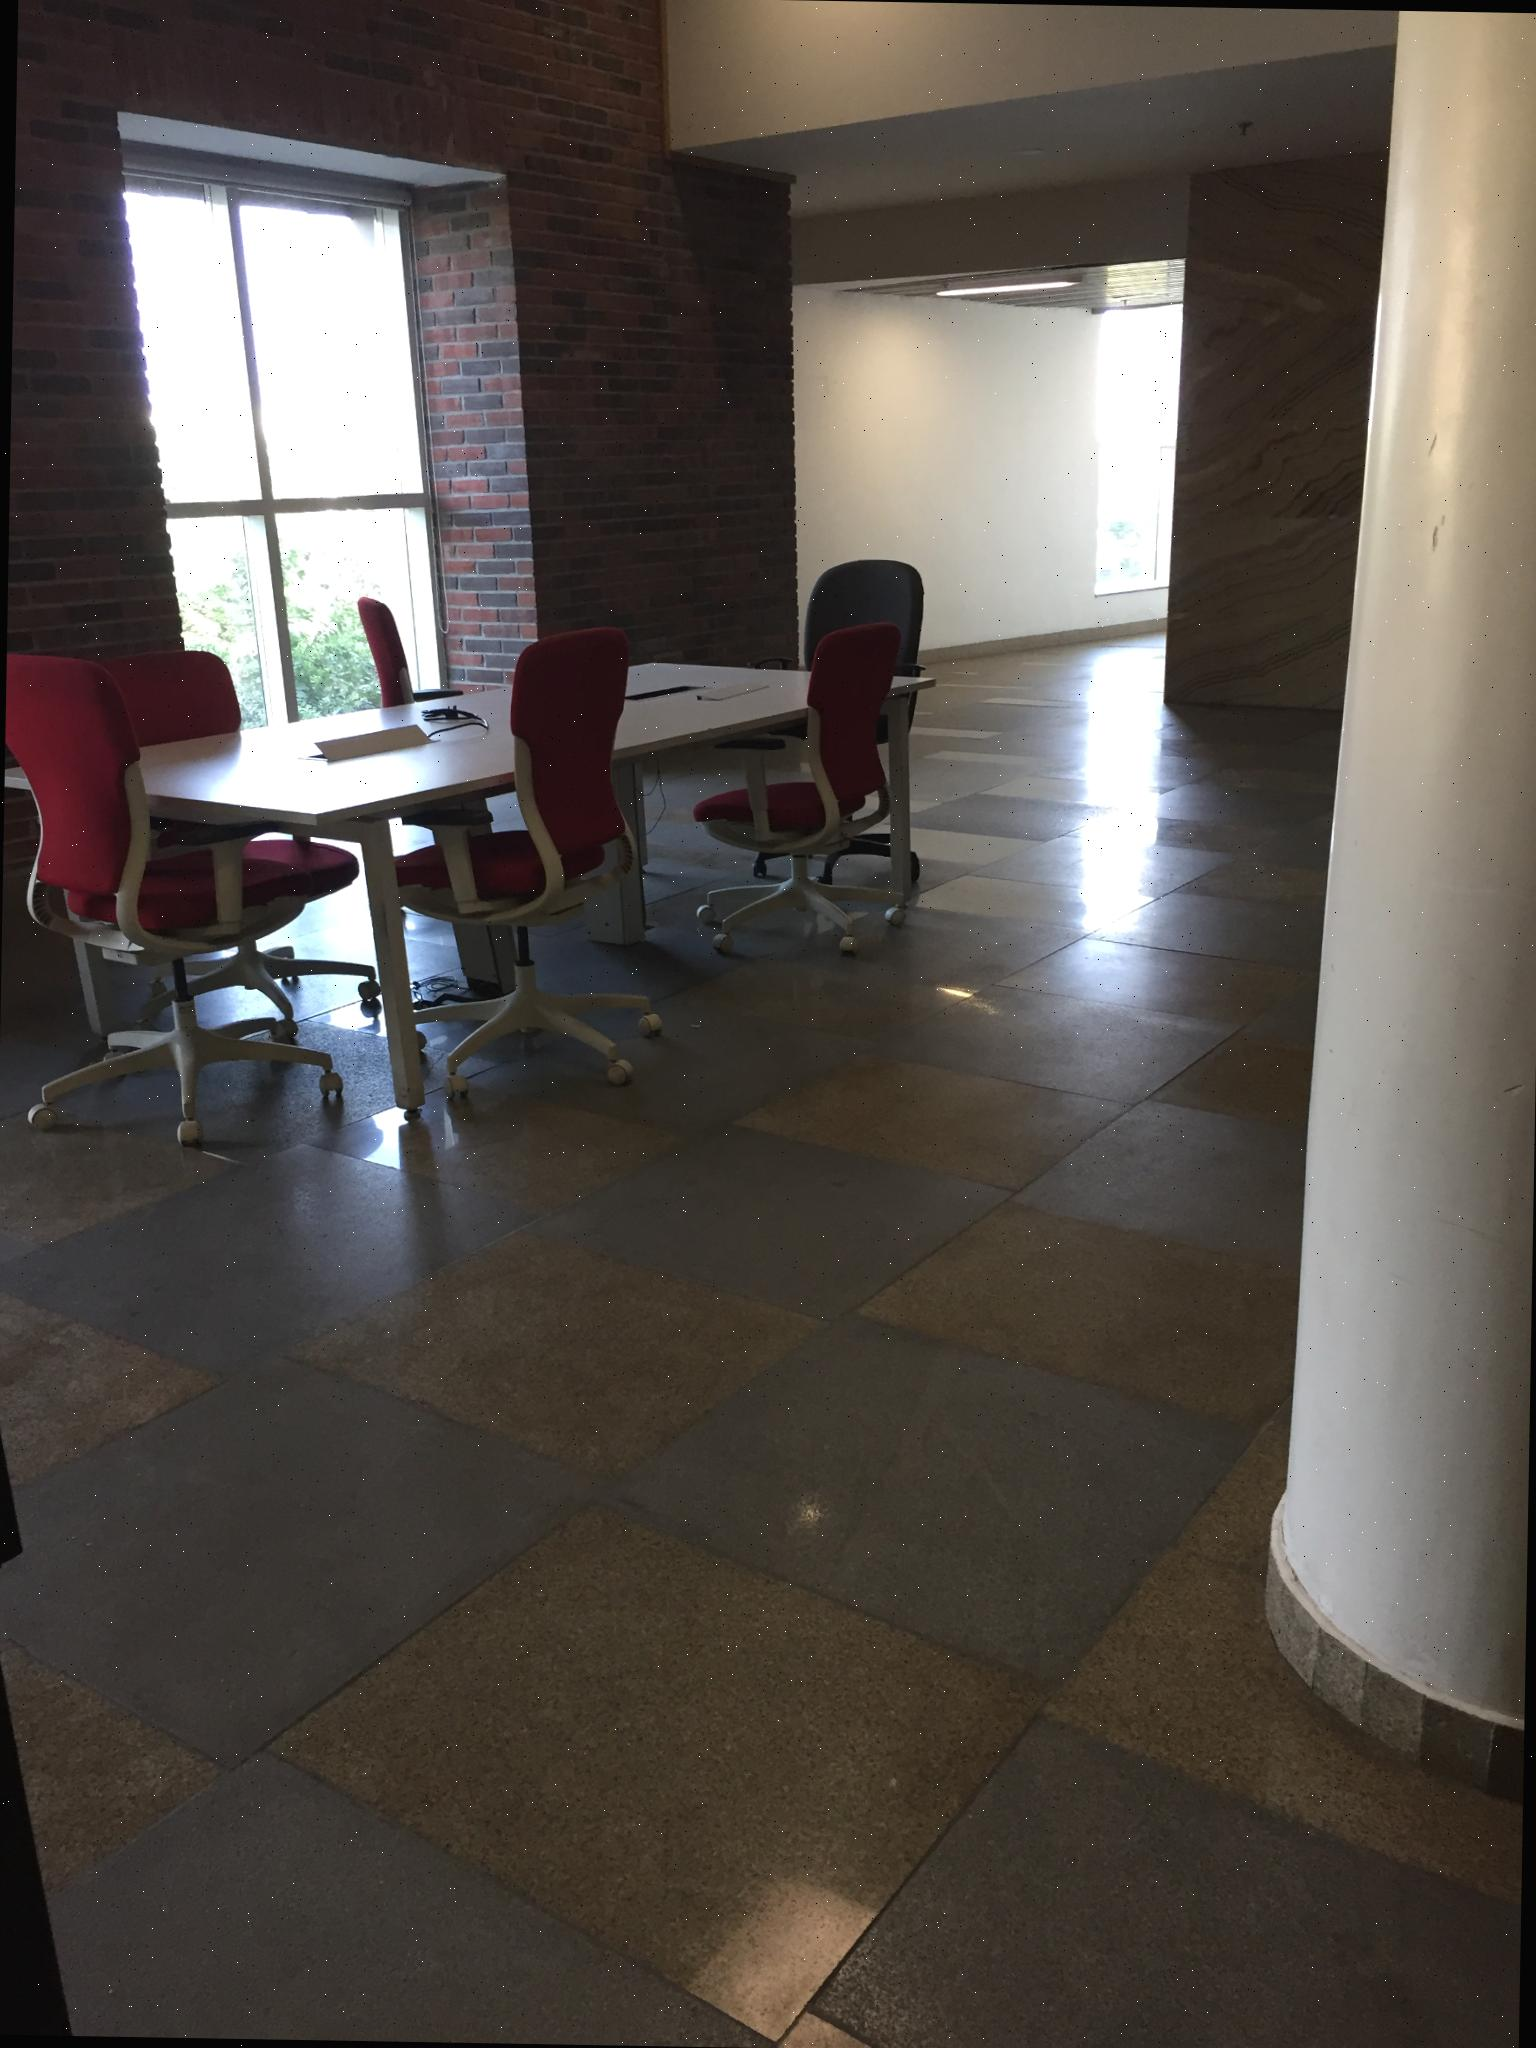chair: (0, 650, 365, 1150), (384, 619, 668, 1105), (689, 616, 915, 958), (339, 564, 481, 731), (786, 547, 939, 658)
